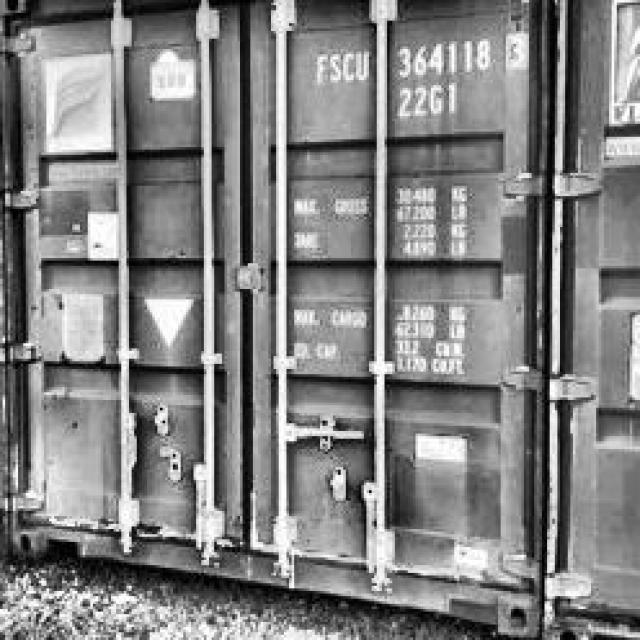ISO: (396, 86, 459, 118)
container_number: (314, 41, 518, 79)
